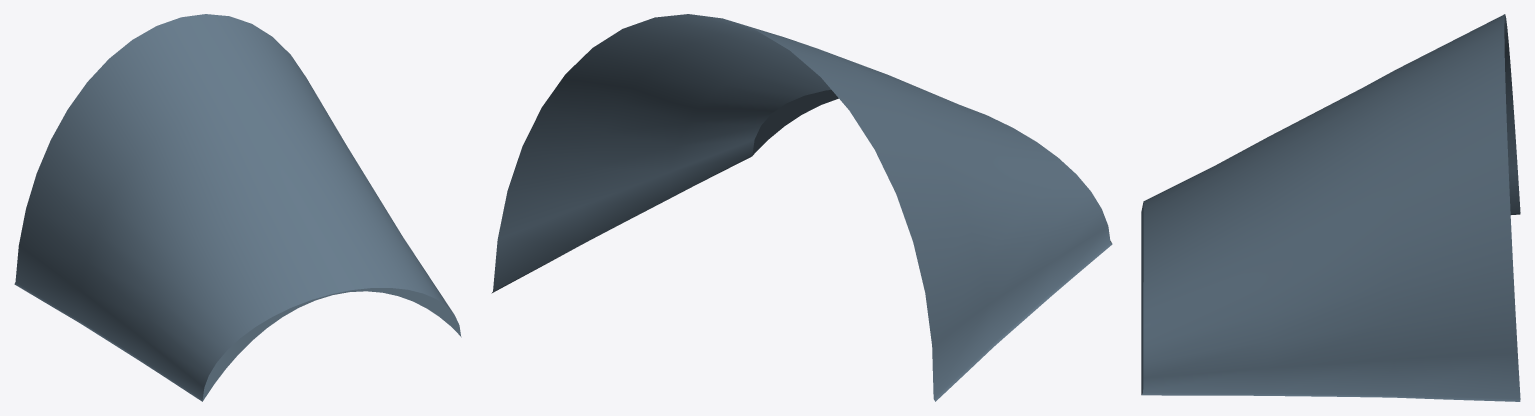
Rendered from windscreen_inner.fbx.
The picture shows the model from 3 angles, left to right: view 1: azimuth 30°, elevation 25°; view 2: azimuth 150°, elevation 25°; view 3: azimuth 270°, elevation 25°; orthographic projection. The views are drawn at different scales.
Visible parts, largest first — view 1: windscreen_inner; view 2: windscreen_inner; view 3: windscreen_inner.
Part boxes in pixels (x1,y1,x2,y2): windscreen_inner: (14,14,461,401); windscreen_inner: (491,14,1112,401); windscreen_inner: (1141,14,1520,401).
Size of the model in its own units: 0.7372 by 0.5323 by 0.6302.
